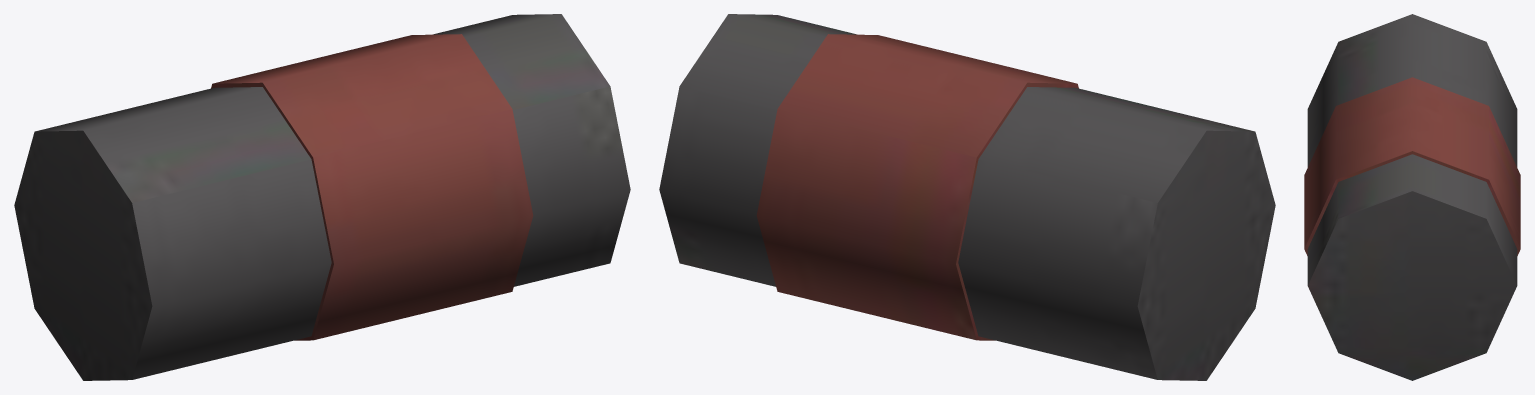
File: flamethrower-ammo.glb
The picture shows the model from 3 angles, left to right: view 1: azimuth 30°, elevation 25°; view 2: azimuth 150°, elevation 25°; view 3: azimuth 270°, elevation 25°; orthographic projection. The views are drawn at different scales.
Parts seen in each view (by area): view 1: flamethrower-ammo; view 2: flamethrower-ammo; view 3: flamethrower-ammo.
Boxes of the visible parts, x1,y1,x2,y2 form: flamethrower-ammo: (14,14,630,380); flamethrower-ammo: (659,14,1275,380); flamethrower-ammo: (1304,14,1520,380).
Size of the model in its own units: 0.24 by 0.124 by 0.124.
Materials: 1 (1 with a texture image).
